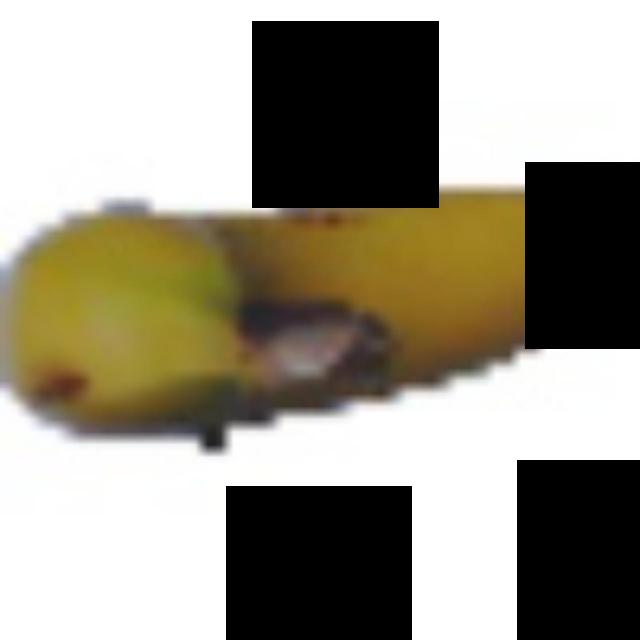banana: (0, 141, 634, 429)
